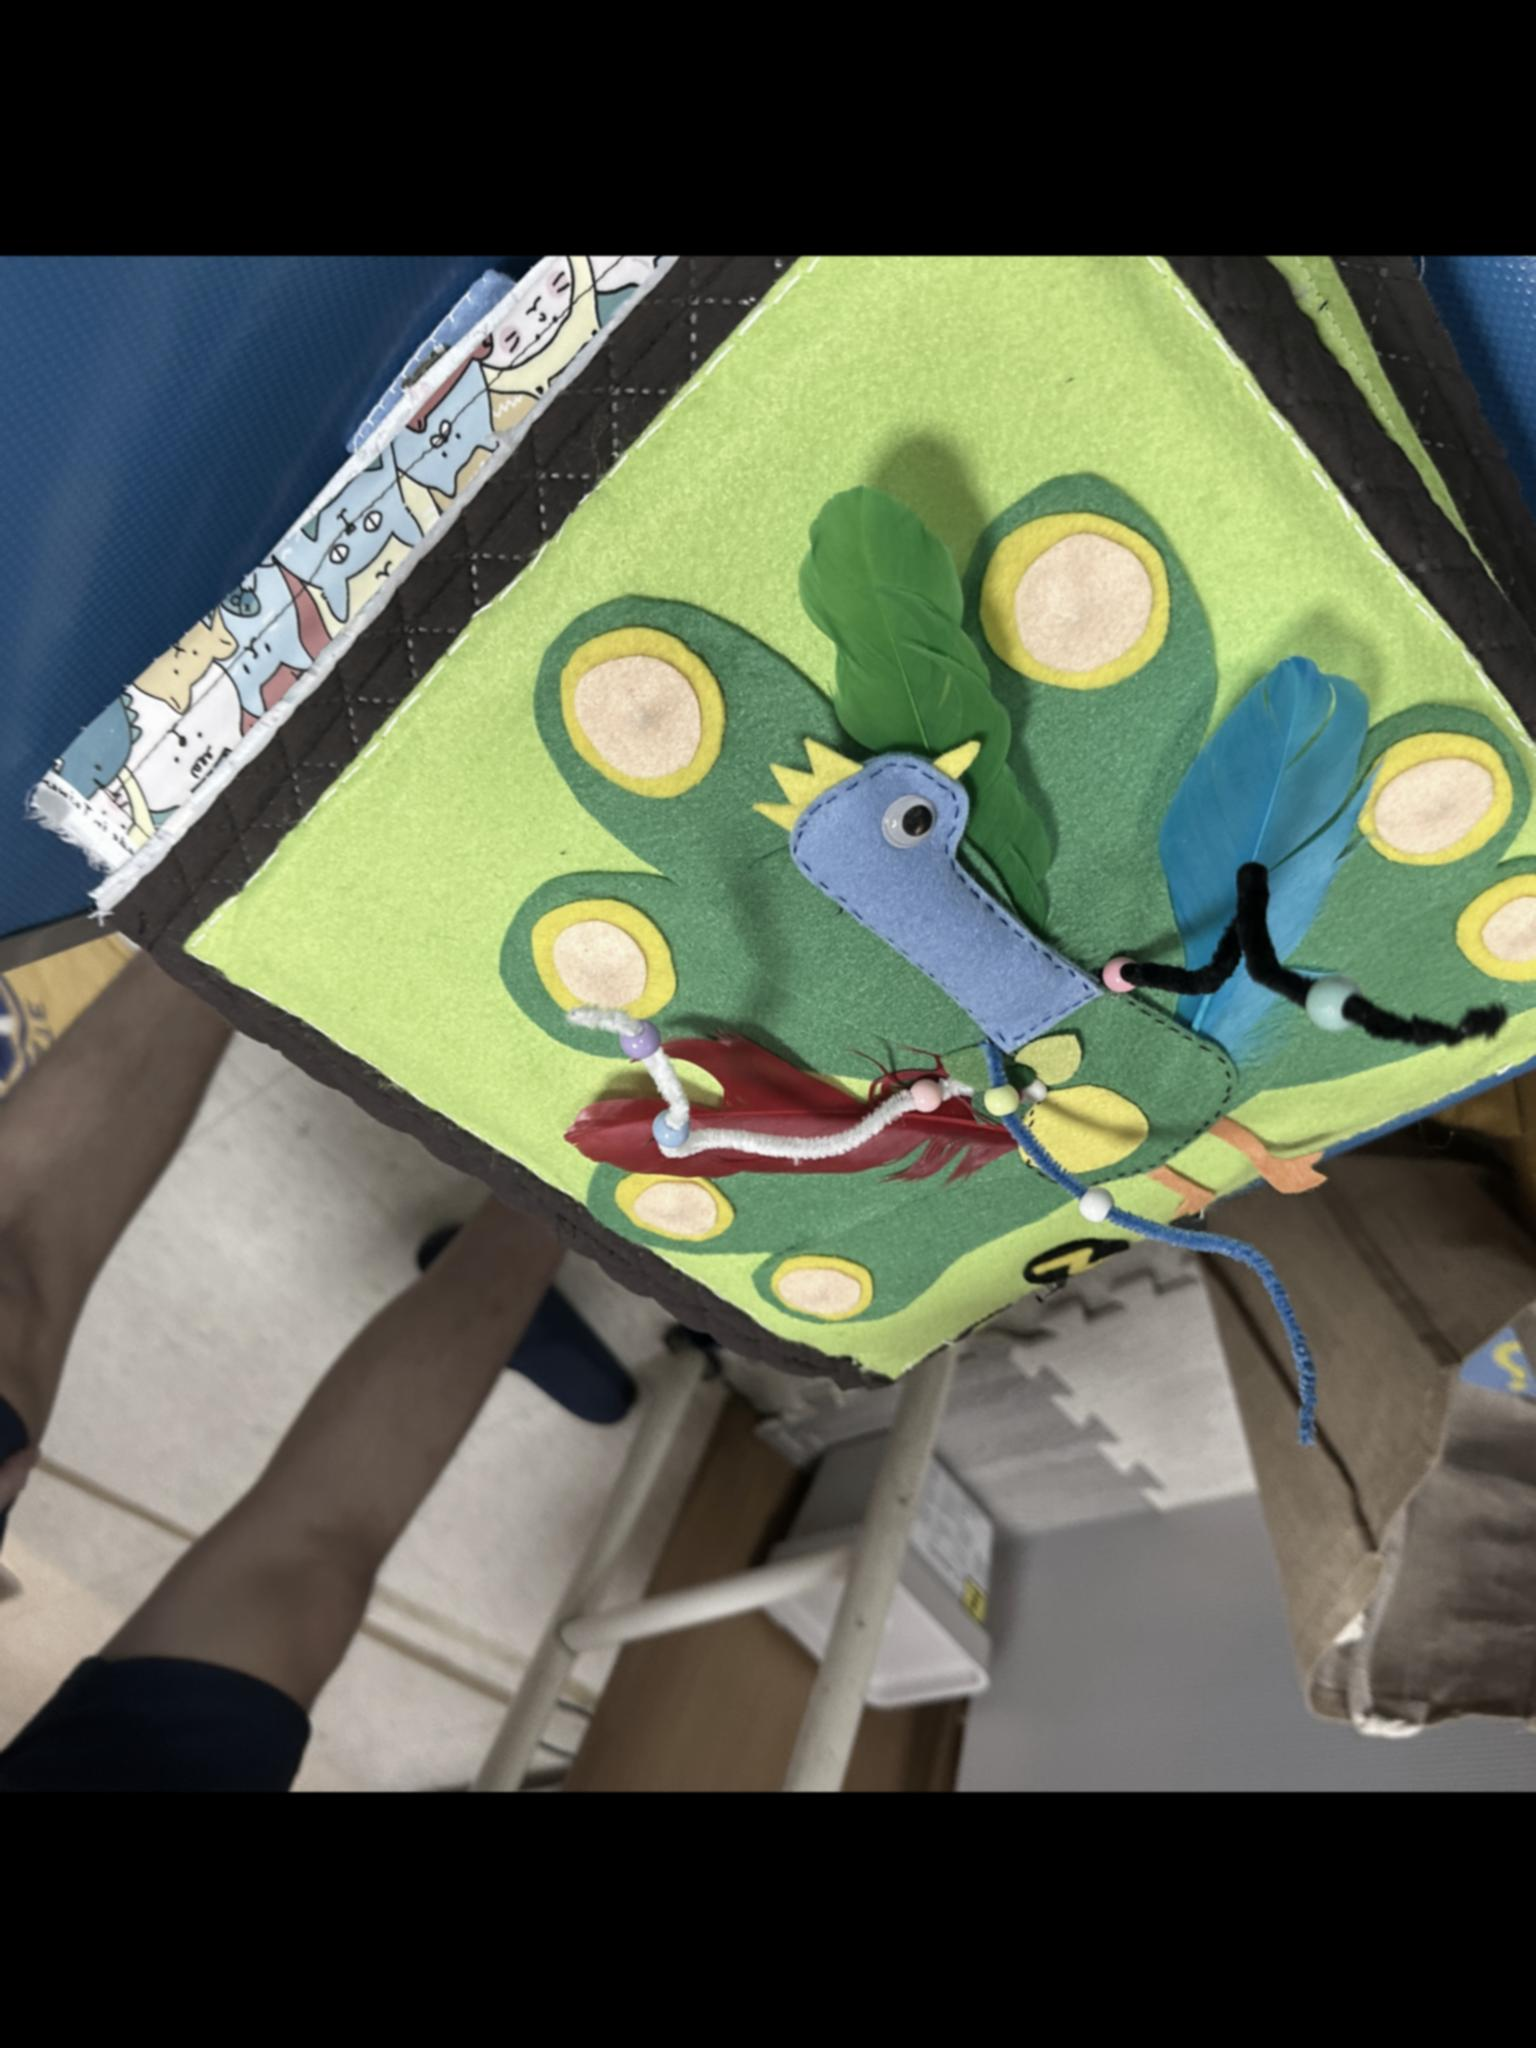bead: (1294, 972, 1355, 1040), (1066, 1180, 1115, 1232), (607, 1024, 663, 1066), (639, 1113, 692, 1155), (1097, 953, 1139, 1006), (978, 1082, 1023, 1129), (892, 1079, 945, 1118)
